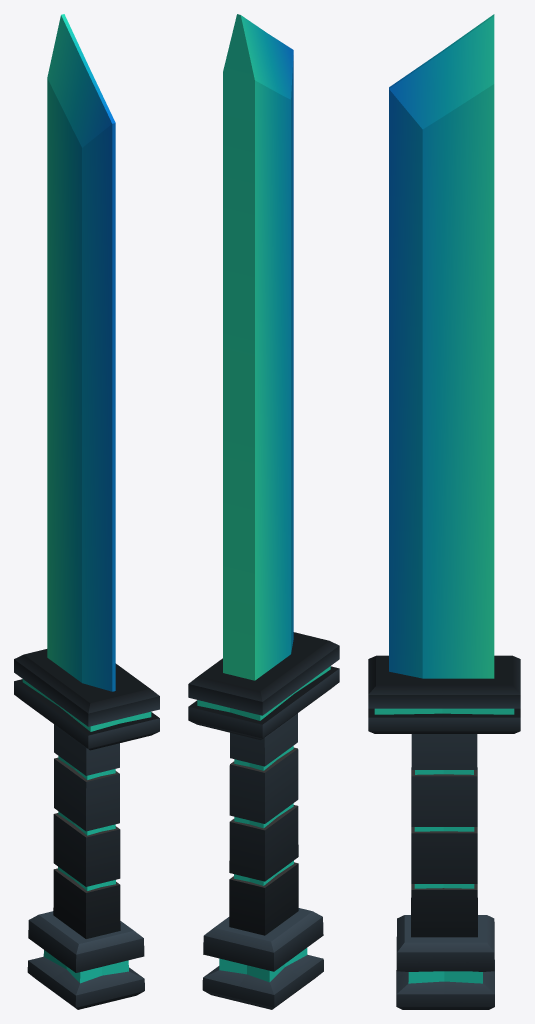
Rendered from Sword_blue.fbx.
The picture shows the model from 3 angles, left to right: view 1: azimuth 30°, elevation 25°; view 2: azimuth 150°, elevation 25°; view 3: azimuth 270°, elevation 25°; orthographic projection. The views are drawn at different scales.
Visible parts, largest first — view 1: Merged_PM3D_Cube3D2; view 2: Merged_PM3D_Cube3D2; view 3: Merged_PM3D_Cube3D2.
Part boxes in pixels (x1,y1,x2,y2): Merged_PM3D_Cube3D2: (14, 14, 159, 1009); Merged_PM3D_Cube3D2: (188, 14, 339, 1009); Merged_PM3D_Cube3D2: (368, 14, 520, 1009).
Bounding box in the file's own units: 0.0994 × 1.27 × 0.1789.
